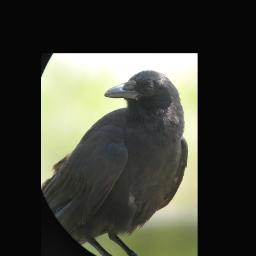Crow: (42, 69, 189, 256)
